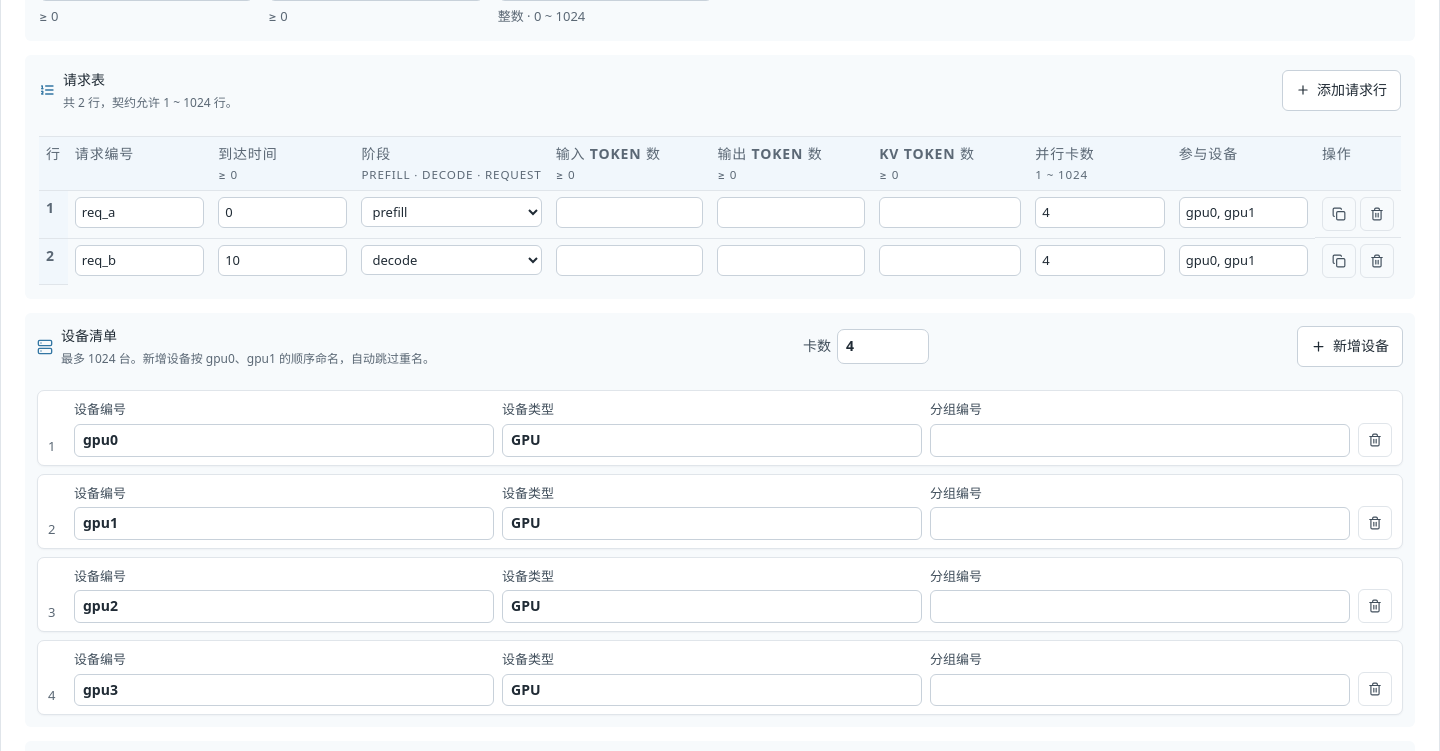
Test: structured input panel › keeps the pairing prompt open when preserving TP cannot fit the smaller inventory
(page scrolled)
Replace the text in the number field labelled "卡数" with "2": (883, 346) [837,329,929,364]
(page scrolled)
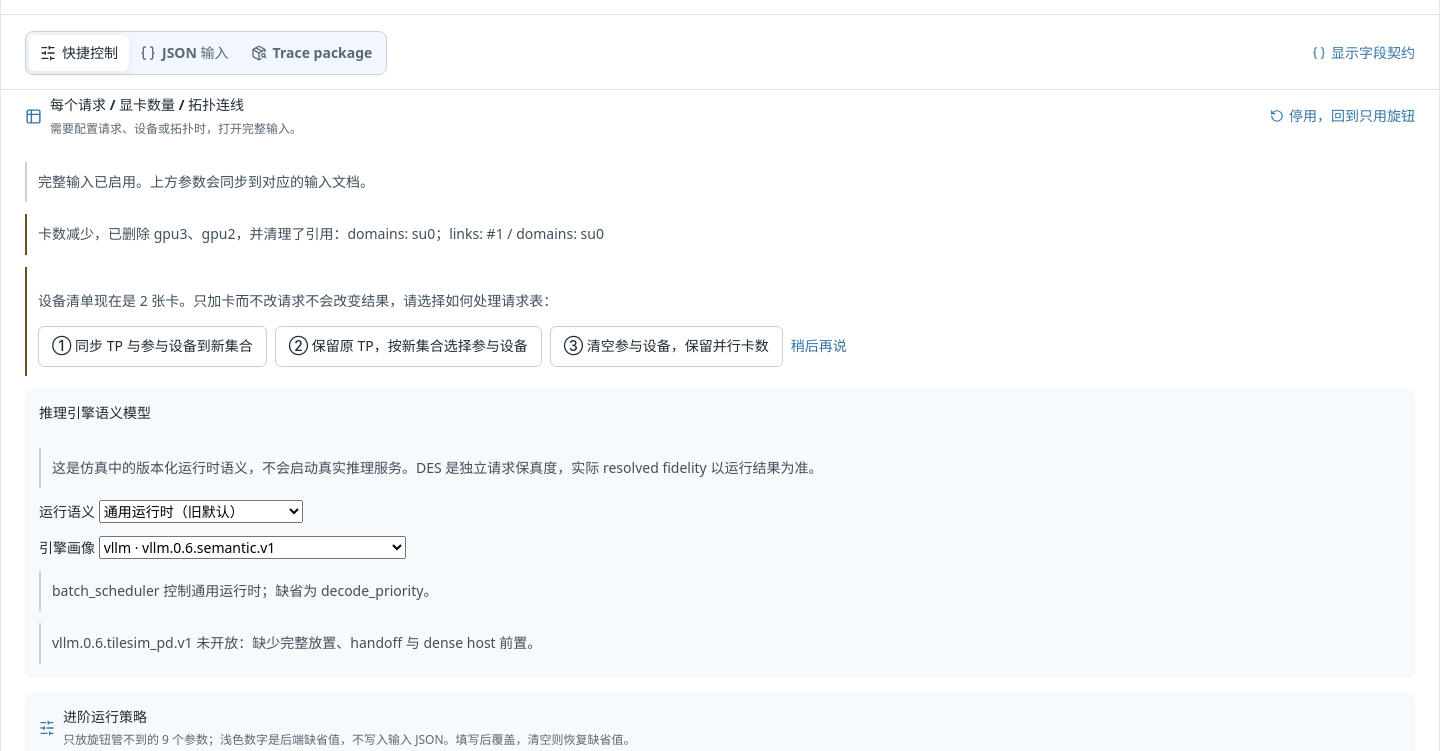
Click the button "② 保留原 TP，按新集合选择参与设备": click(408, 346) [275,326,542,366]
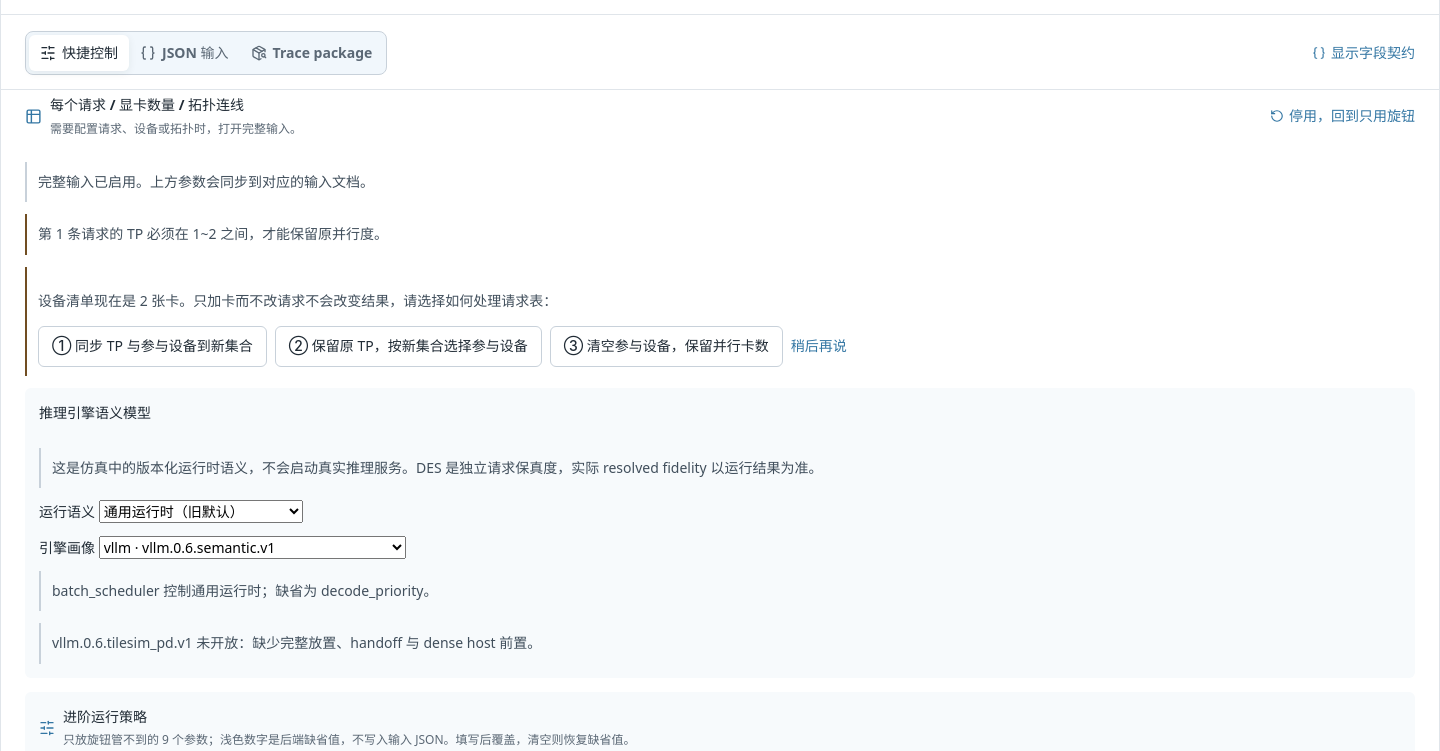
expect the message with class "structured-note--warning" that starts with "设备清单现在是 2 张卡。只加卡而不改请求不会改变结果，请选择如何处理请求表：" is shown: met, box [25,267,1415,376]
expect the text "TP 必须在 1~2 之间" is shown: met, box [38,224,388,243]
